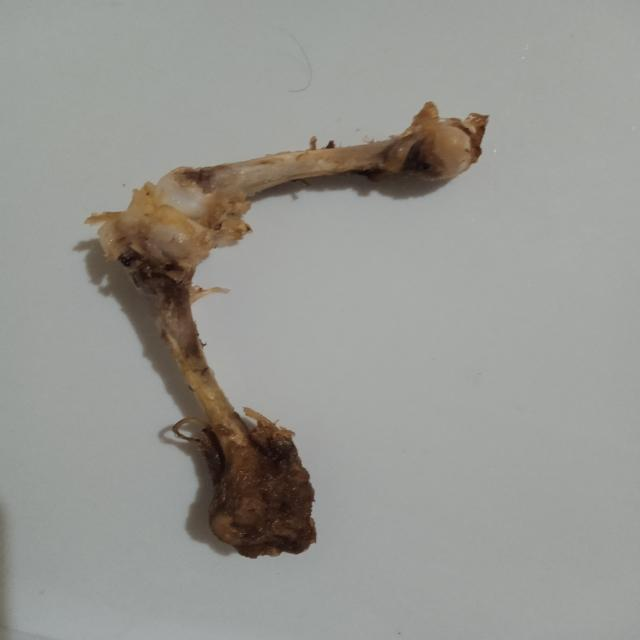bone: (60, 92, 527, 565)
